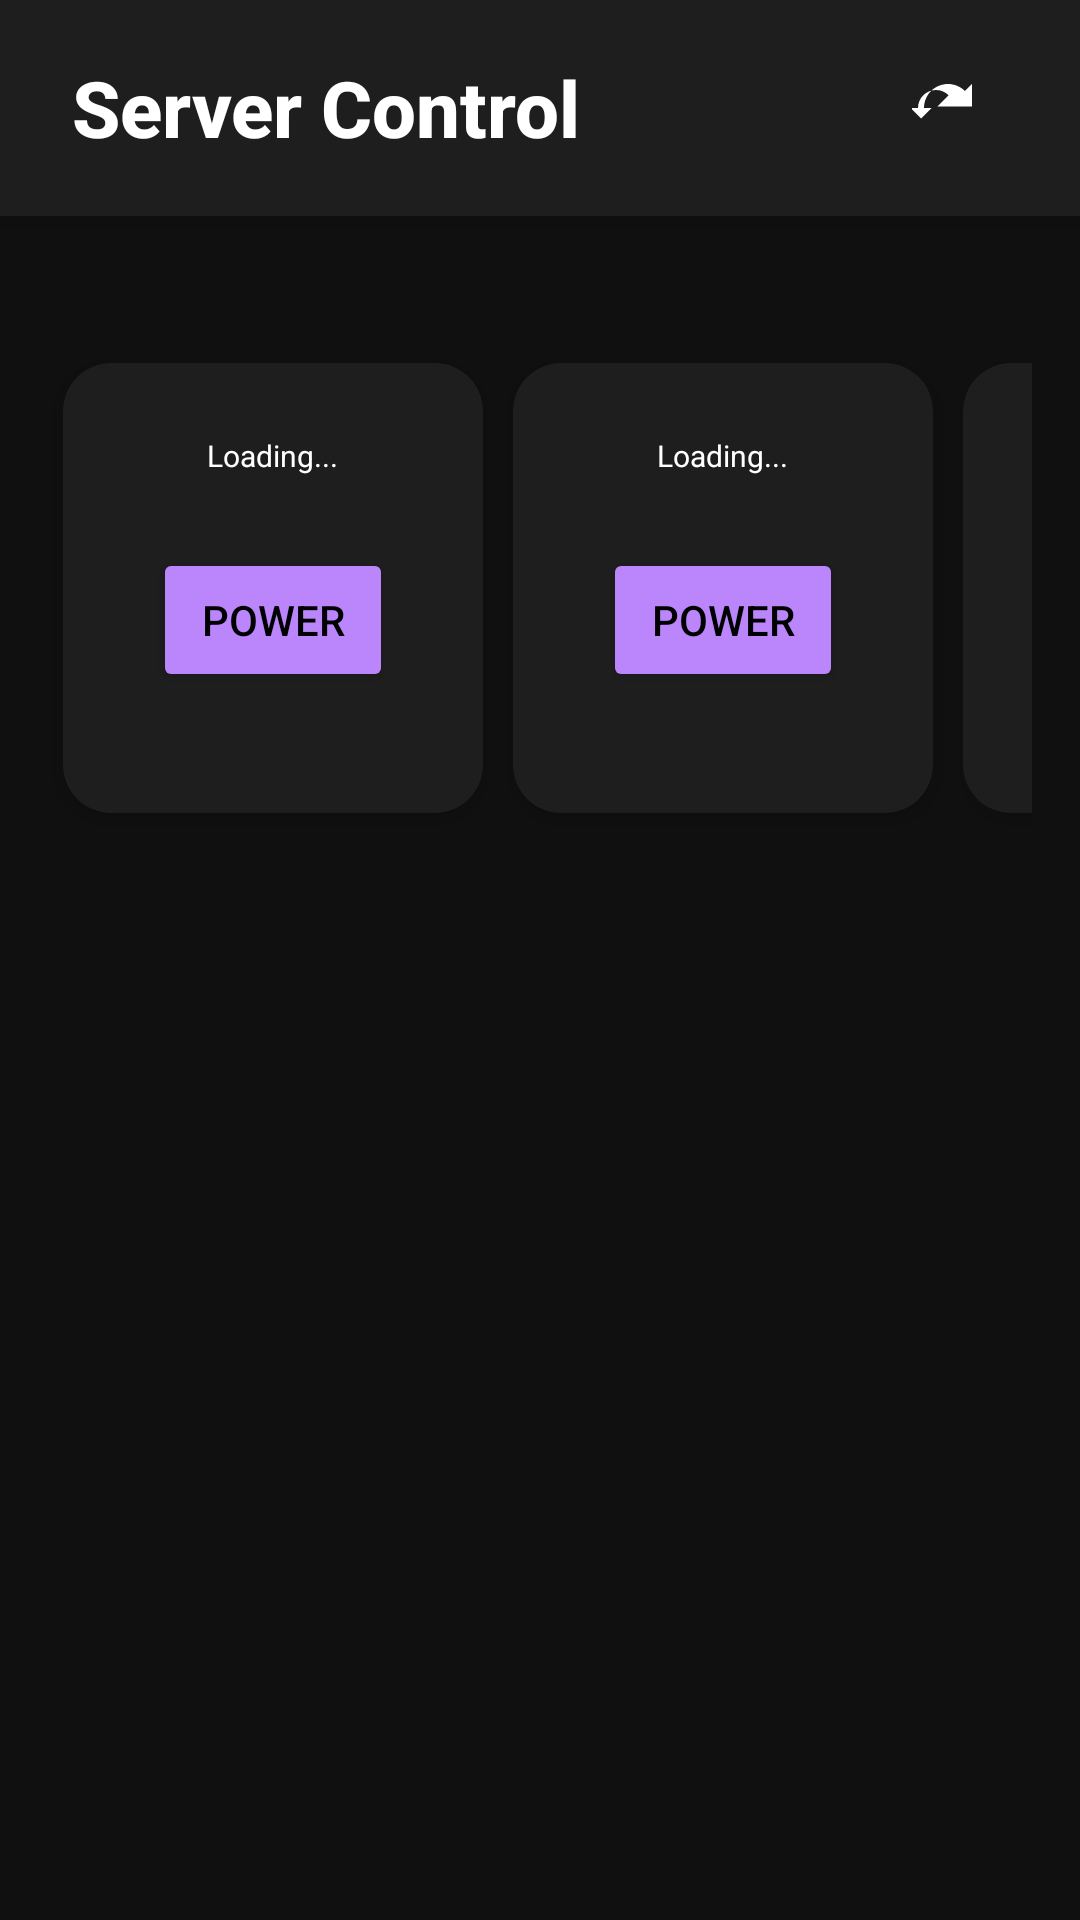

Point at icon controls on the screen. Image size 1080 x 1920, points as (x=x, y=y).
Refresh: (x=942, y=101)
